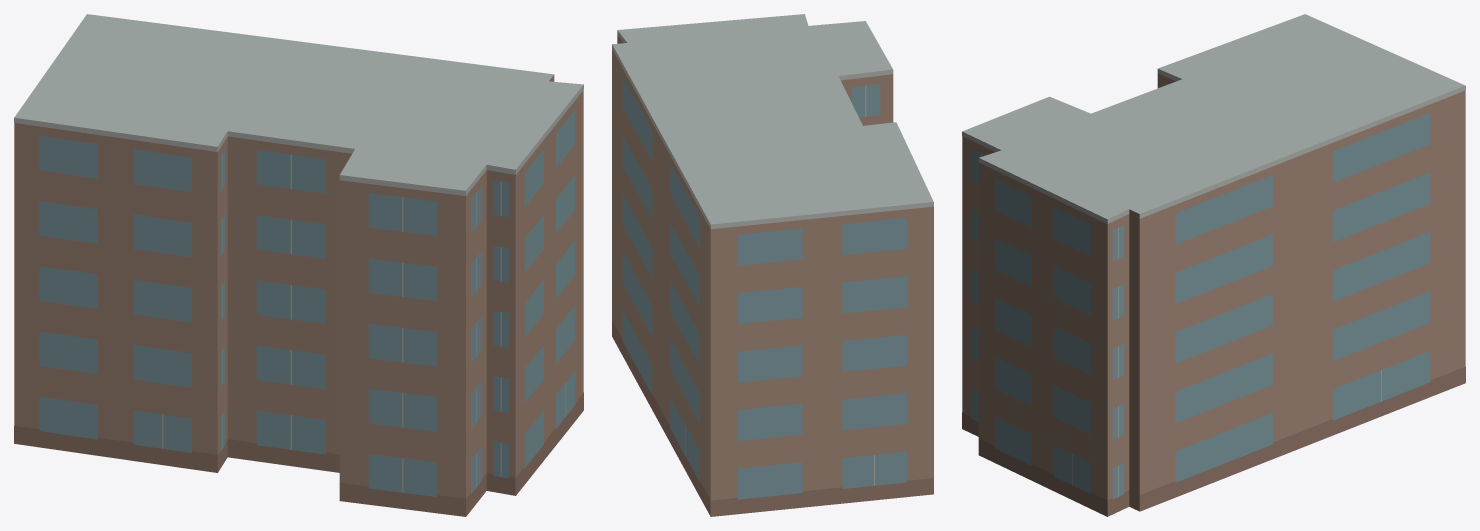
The model's file is survey-upis-32641847.glb.
3 views of the same model, side by side, from view 1: azimuth 30°, elevation 25°; view 2: azimuth 150°, elevation 25°; view 3: azimuth 270°, elevation 25° (orthographic). The views are drawn at different scales.
Parts seen in each view (by area): view 1: survey-upis-32641847.tmp; view 2: survey-upis-32641847.tmp; view 3: survey-upis-32641847.tmp.
Boxes of the visible parts, box(x1,y1,x2,y2) form: survey-upis-32641847.tmp: box(14, 14, 583, 516); survey-upis-32641847.tmp: box(612, 14, 933, 516); survey-upis-32641847.tmp: box(962, 14, 1465, 516).
Bounding box in the file's own units: 22.66 × 15.3 × 23.48.
